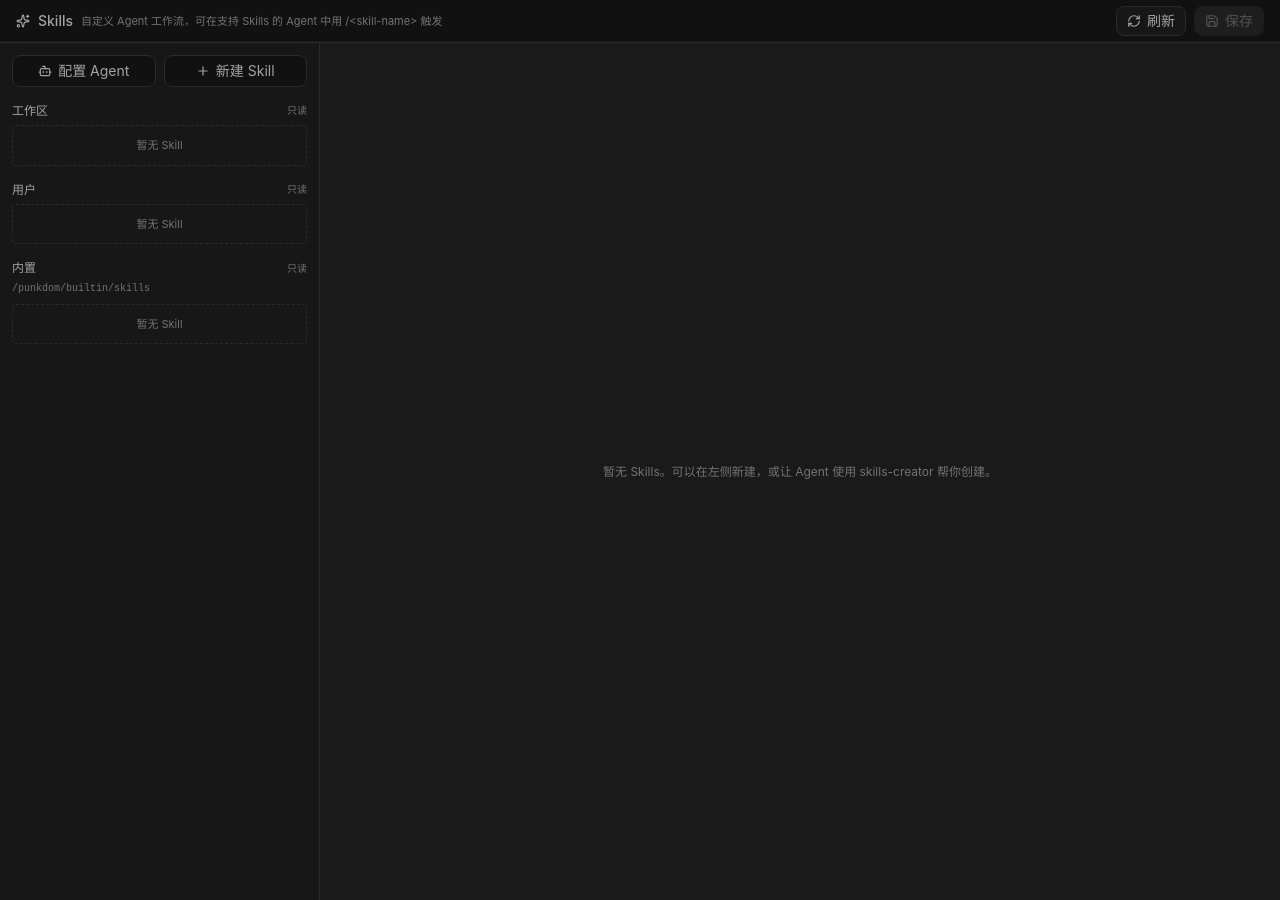
Scenario: SkillsView › disables creation when no writable scope exists
This screenshot has width=1280, height=900.
Click the button "新建 Skill": (235, 71) [164,55,307,87]
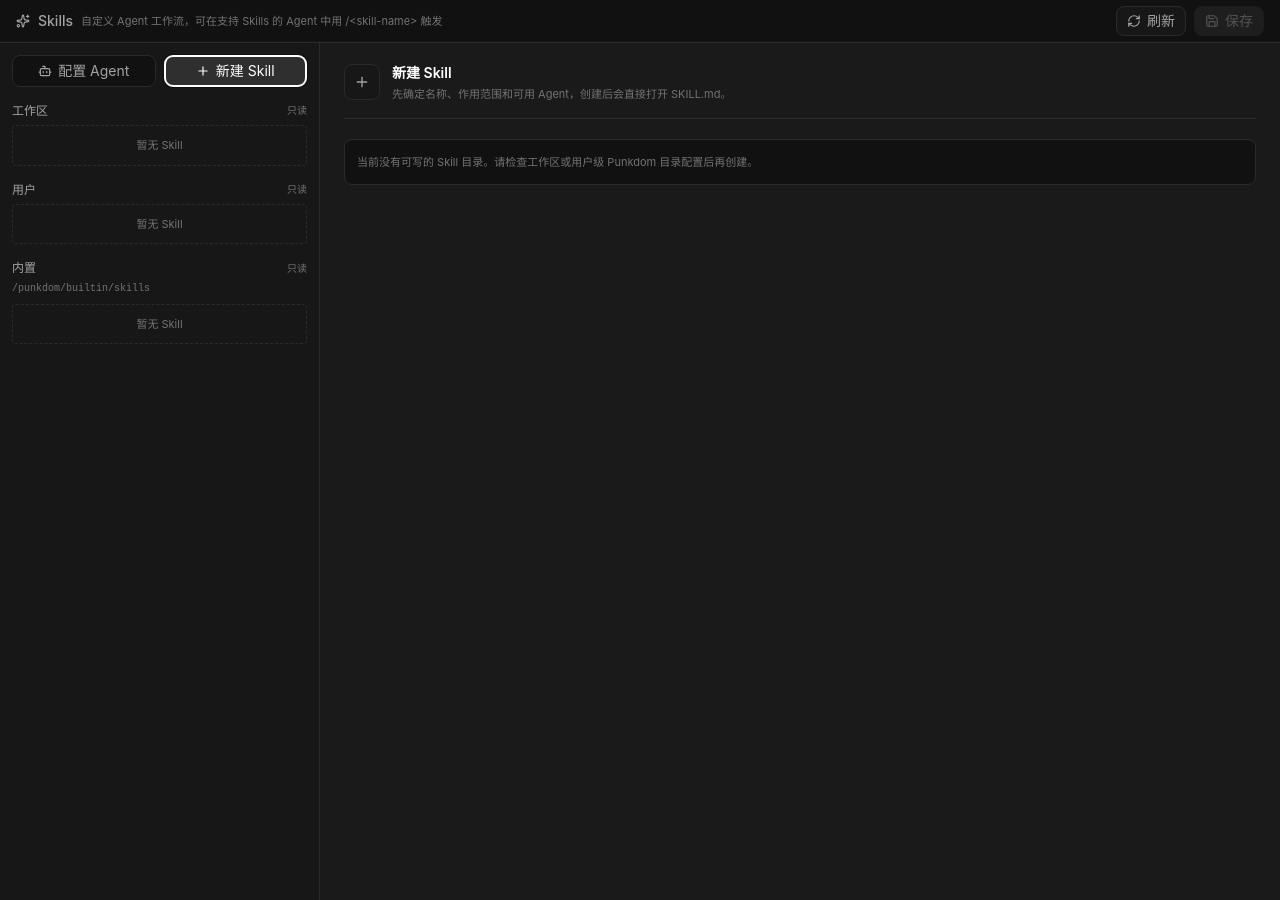
Check: the text "当前没有可写的 Skill 目录。请检查工作区或用户级 Punkdom 目录配置后再创建。" is shown, box [344,139,1256,185]
